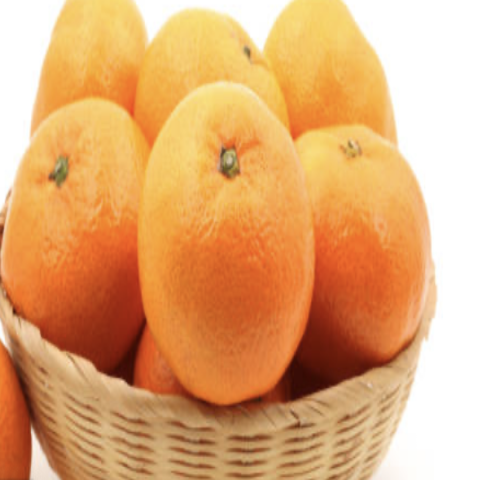orange: (132, 71, 326, 403), (264, 104, 468, 374), (4, 74, 159, 405)
